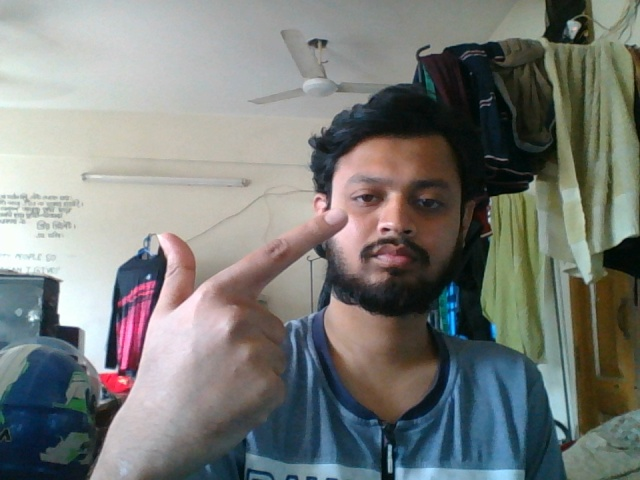tho: (123, 203, 355, 457)
